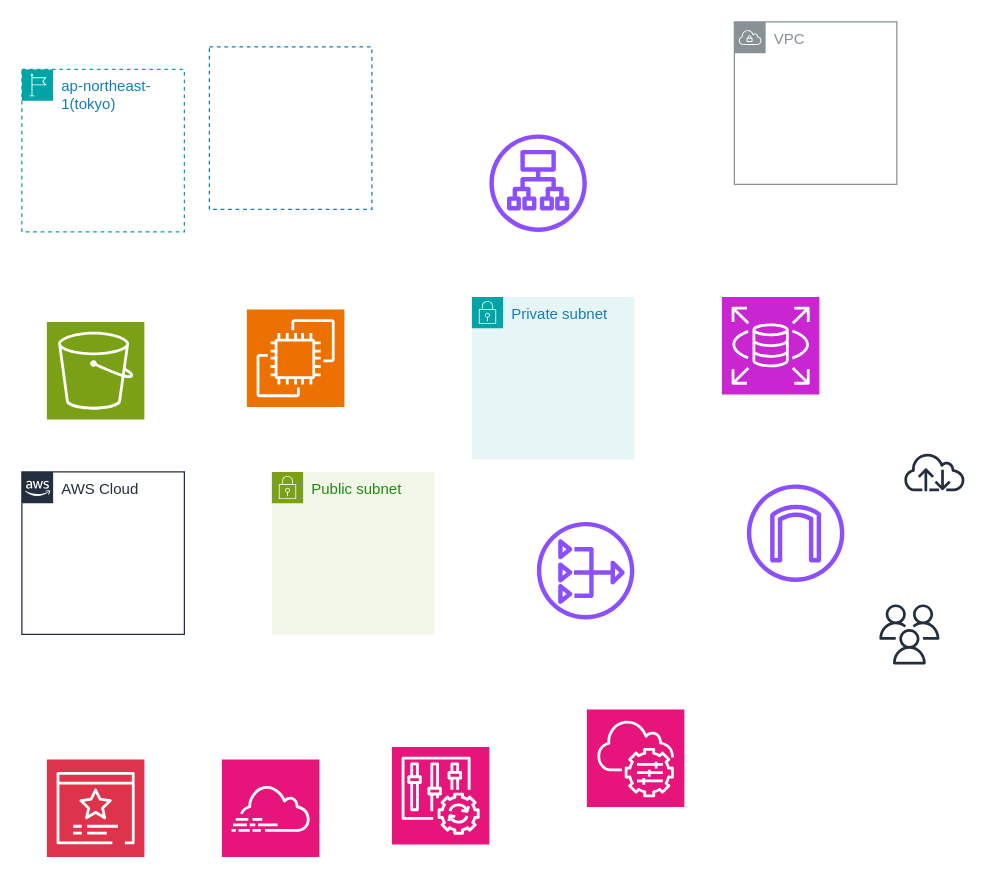
Image size: 994x879. Some labels were removed from this diagram. The shapes that lost their labels are listed below. From the top down, each one's box as (x1, y1, x2, y2) in pixels, then its label:
(208, 46, 372, 209): Availability Zone
(896, 433, 972, 509): Internet
(871, 596, 947, 672): Users
